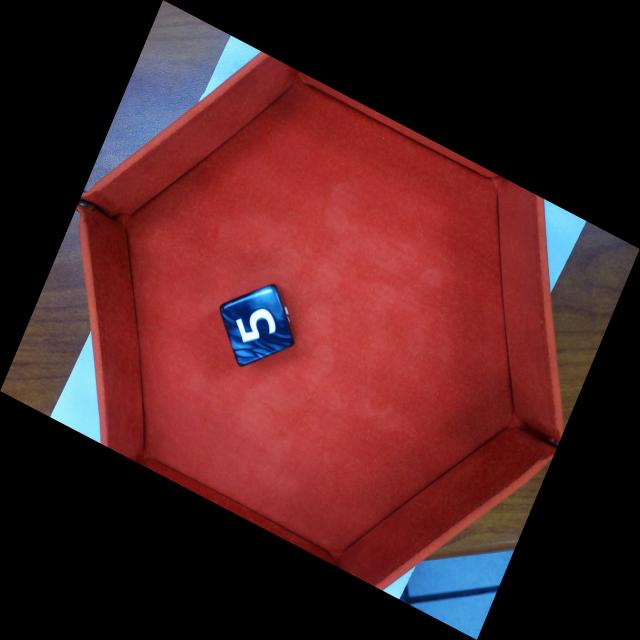dice: (217, 282, 298, 370)
